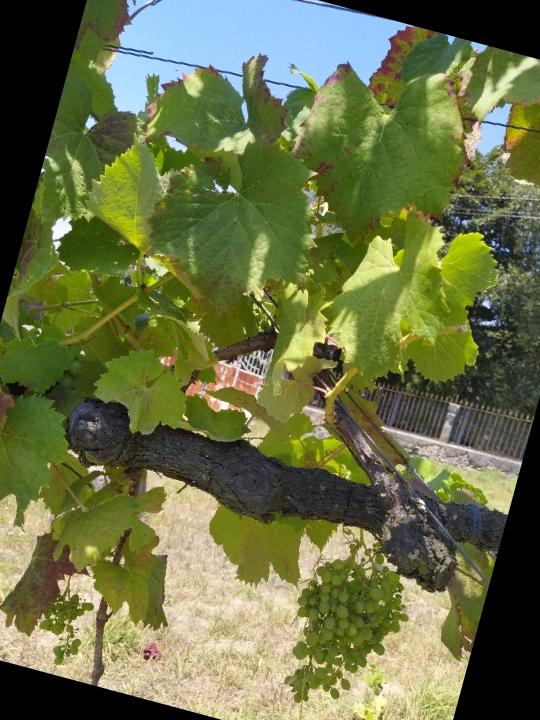grape: (274, 529, 431, 720), (30, 586, 97, 672)
